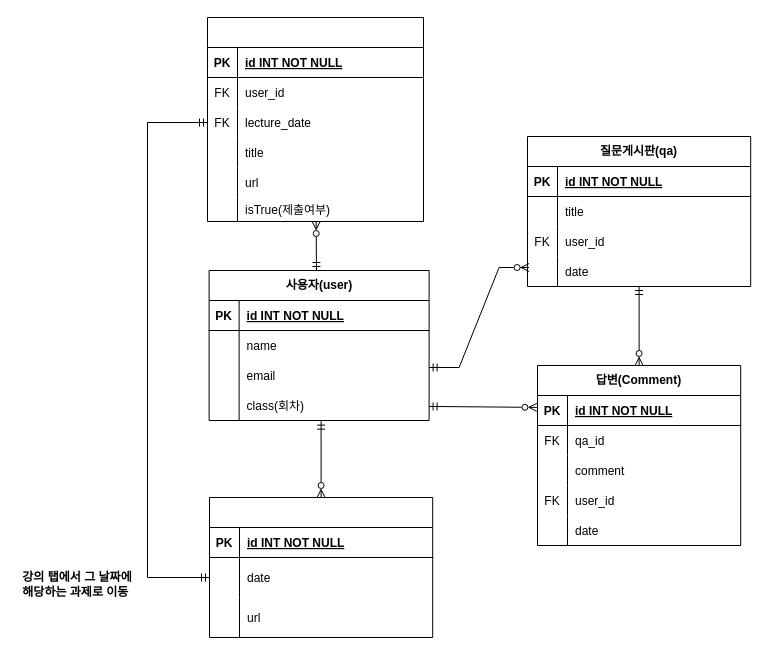
Some shapes in this 768 by 655 pixel diagram are drawn without their labels. The shapes that lost their labels are listed below. From the top down, each one's box as (x1, y1, x2, y2) in pixels, then its label:
(206, 16, 424, 222): 과제(assginment)
(208, 496, 433, 638): 강의(lecture)
